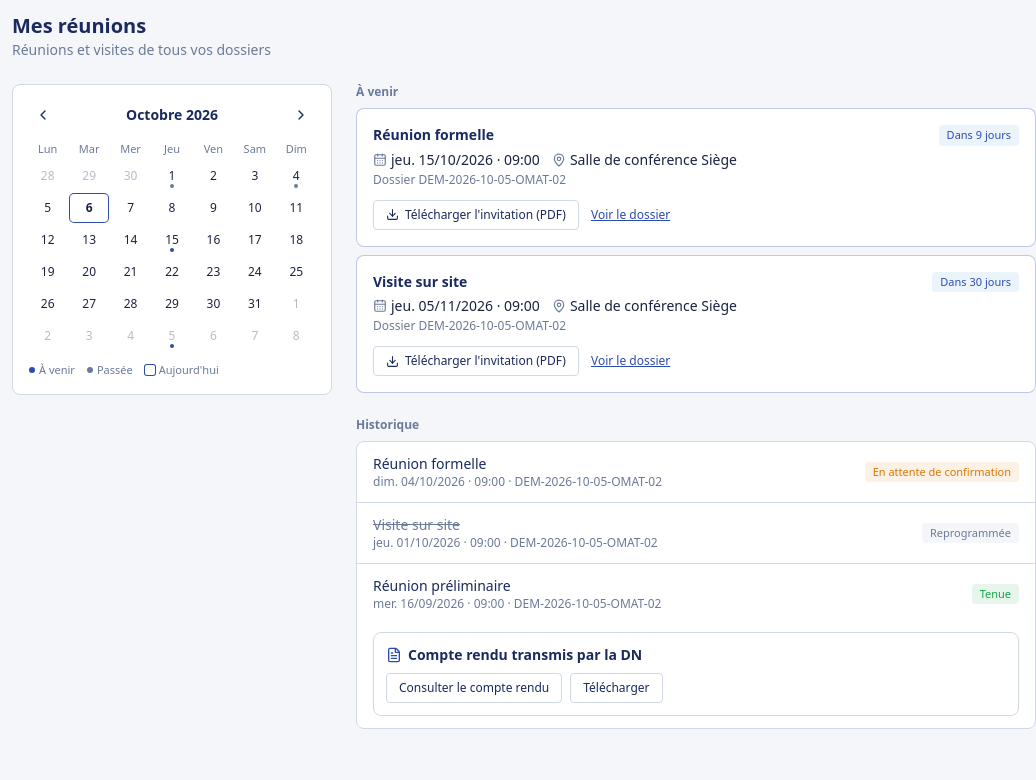
<MeetingsPage> › opens on the next meeting's month and navigates between months
The image size is (1036, 780).
Expected: the text "octobre 2026" is shown, [126,105,218,125]
Click the button named "Mois suivant". click: (301, 115)
box: [287,101,315,129]
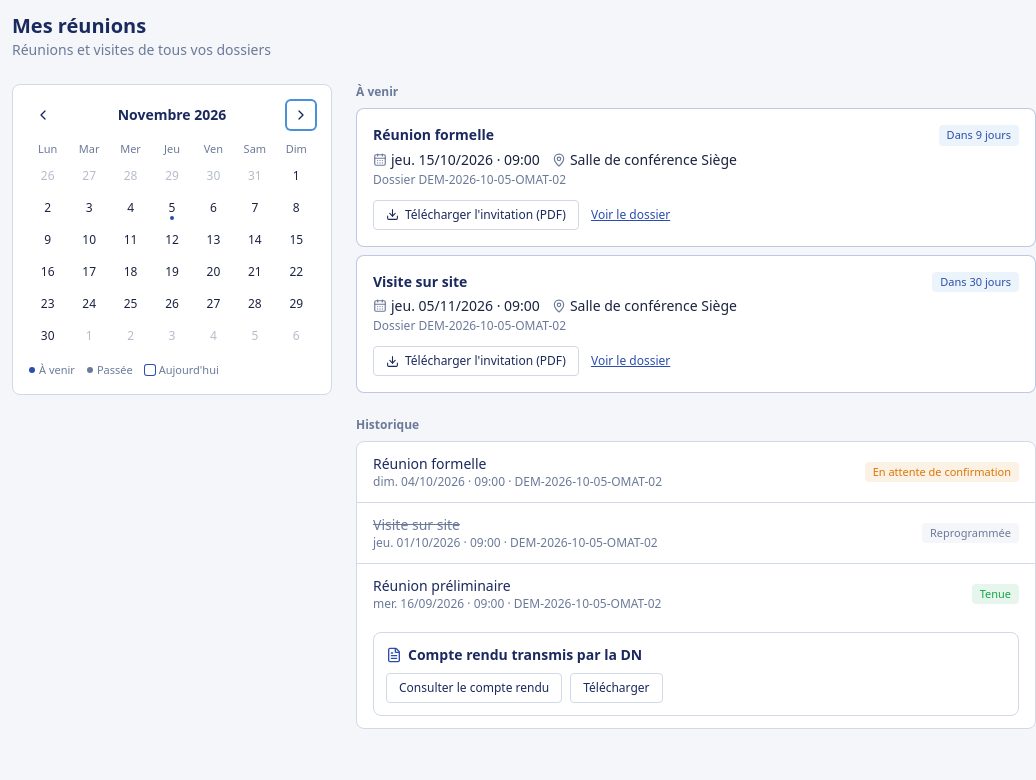
Now the text "novembre 2026" is shown, box [118,105,226,125]
